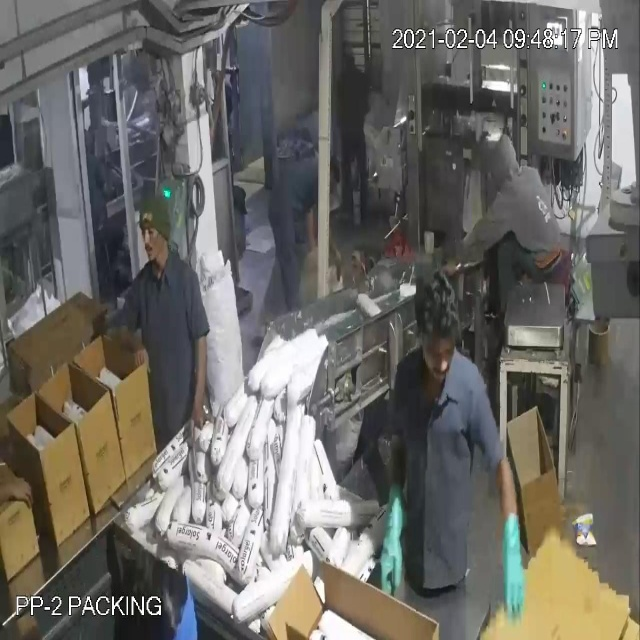Sin_guantes: (369, 482, 421, 602), (180, 322, 220, 443), (102, 305, 156, 387), (500, 508, 534, 631), (299, 204, 327, 271)
